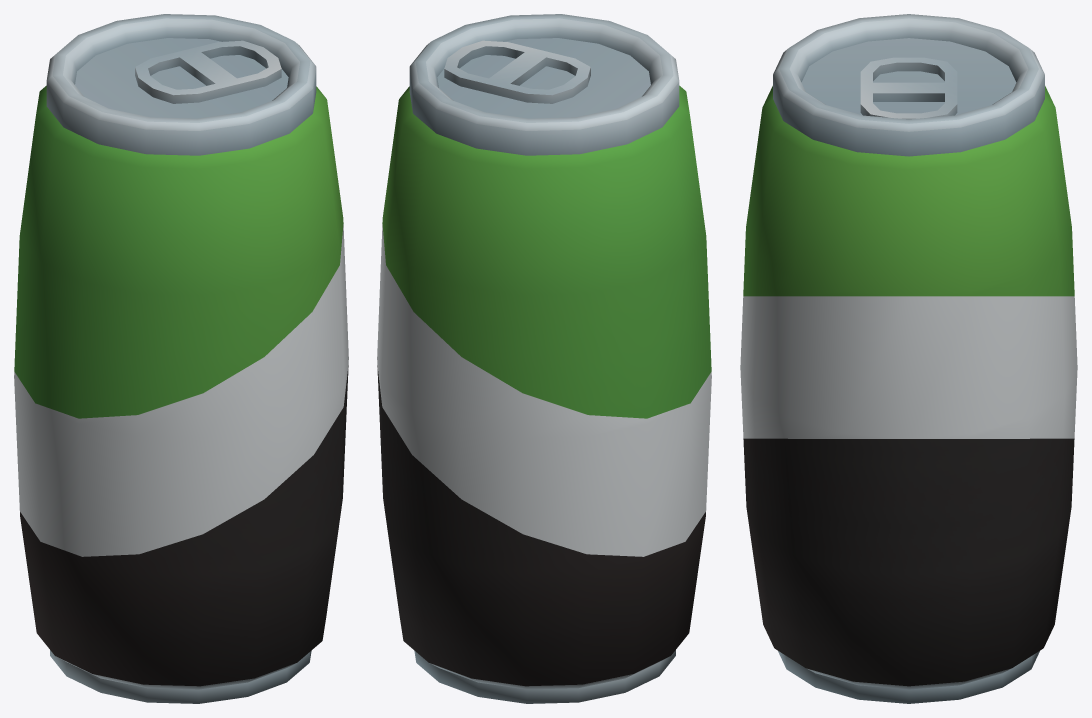
The model's file is can_004.fbx.
3 renders of one model, left to right at view 1: azimuth 30°, elevation 25°; view 2: azimuth 150°, elevation 25°; view 3: azimuth 270°, elevation 25°, orthographic.
Visible parts, largest first — view 1: can_004; view 2: can_004; view 3: can_004.
Boxes of the visible parts, left/top/right/bottom form: can_004: left=14, top=14, right=348, bottom=703; can_004: left=377, top=14, right=711, bottom=703; can_004: left=740, top=14, right=1077, bottom=703.
Bounding box in the file's own units: 7.64 × 7.64 × 14.6.
